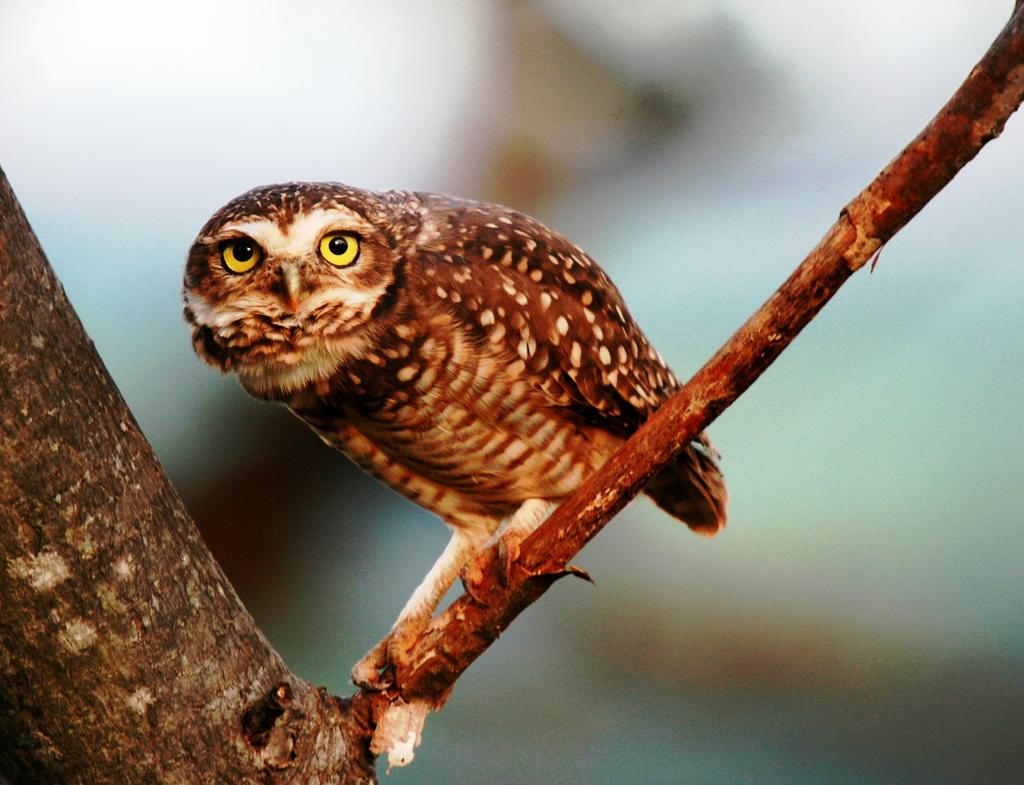Owl: (184, 176, 732, 695)
